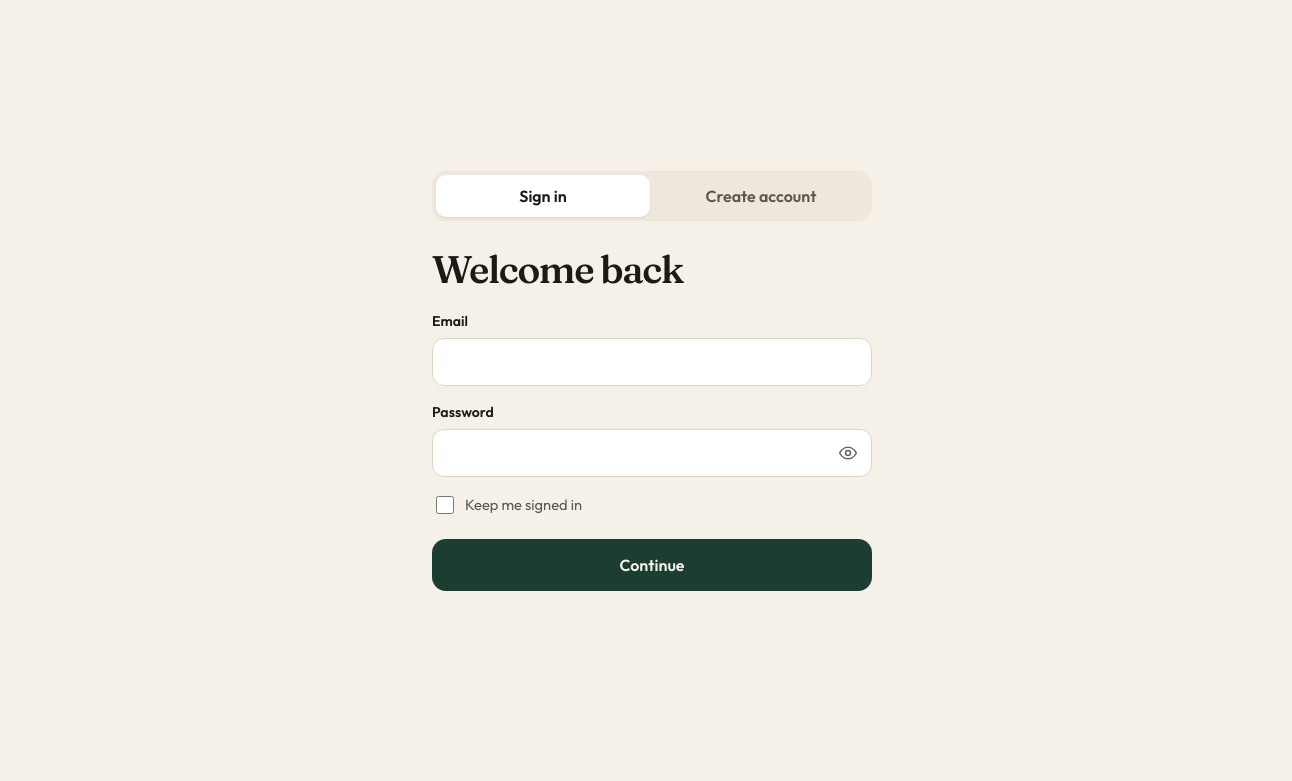
Test: US 13 Log in › AC 13.1: logs a store owner in and shows their store
The width and height of the screenshot is (1292, 781).
In the field labelled "Email": (652, 362) [432,338,872,386], type "sam@example.com"
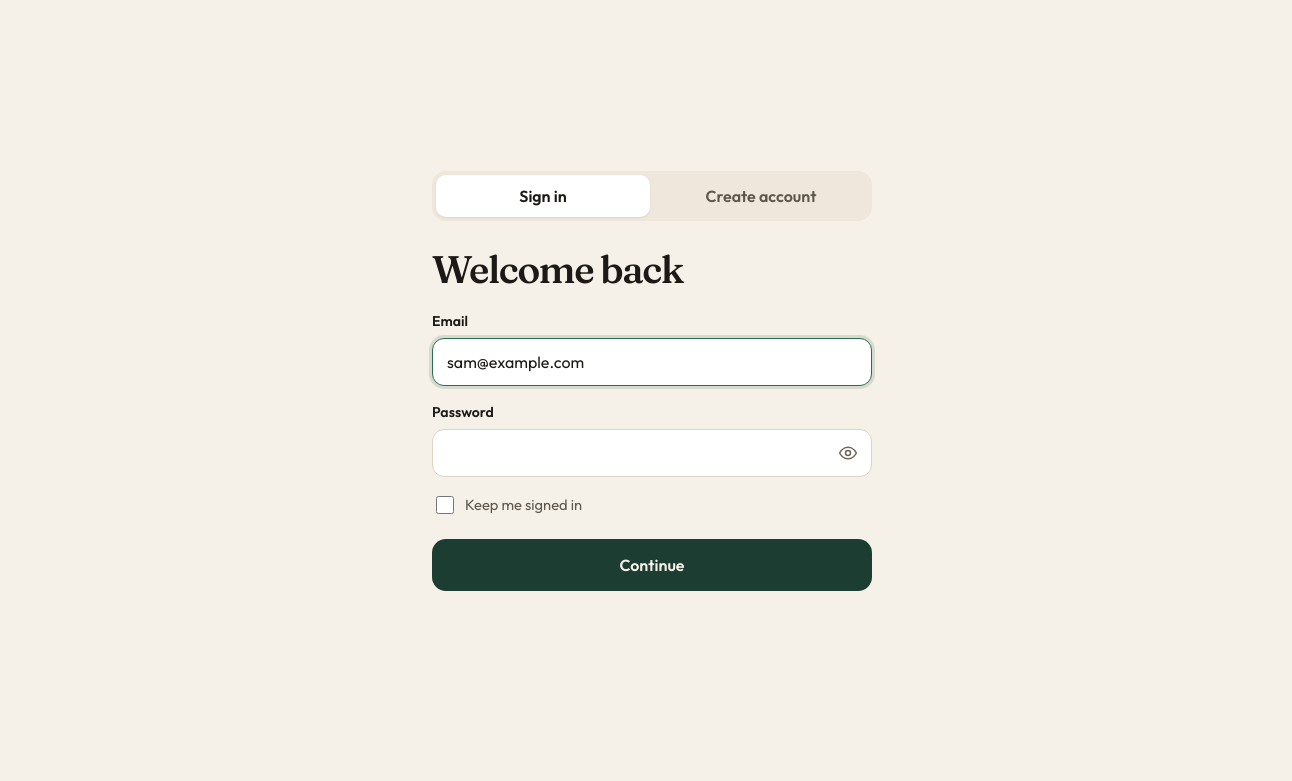
In the password field labelled "Password": (652, 453) [432,429,872,477], type "tasty-noodles"
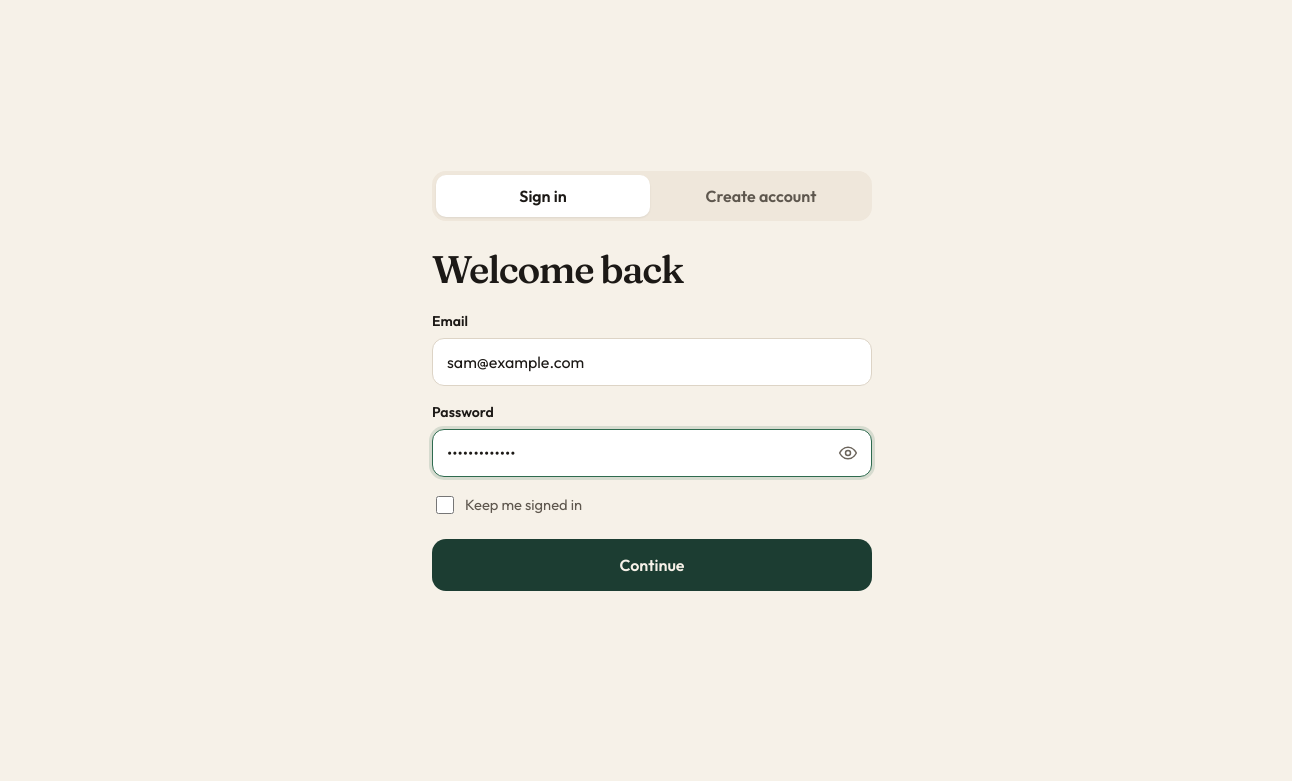
Click the button "Continue": (652, 565) [432,539,872,591]
(page scrolled)
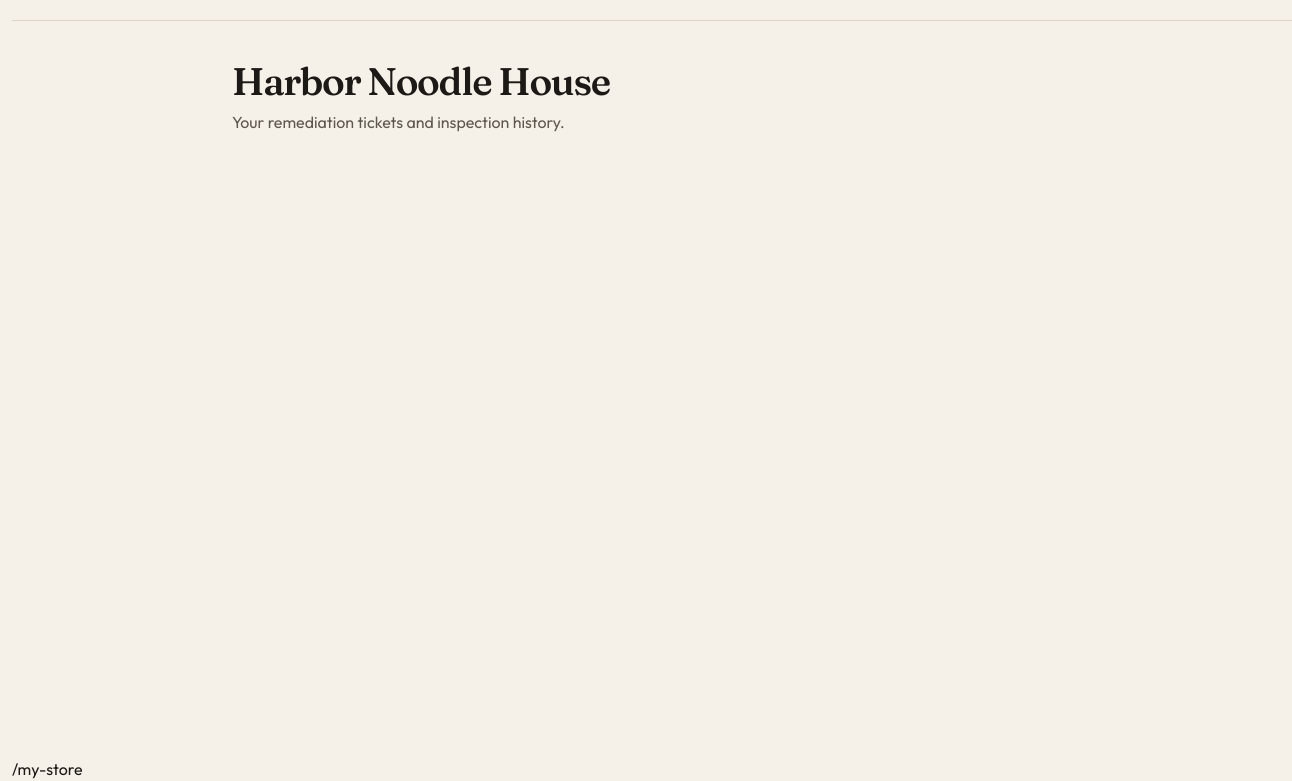
Now the heading "Harbor Noodle House" is shown, box [232,57,610,105]
Now the text with test id "location" reads "/my-store", box [12,759,83,779]
